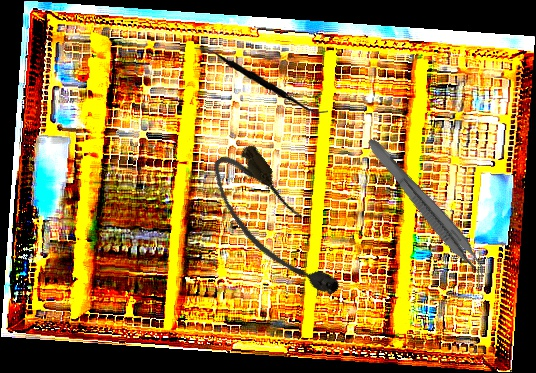Cannula: (201, 137, 350, 316)
Spatula Surgical: (194, 40, 328, 120)
Tissue Forceps: (357, 135, 496, 285)
